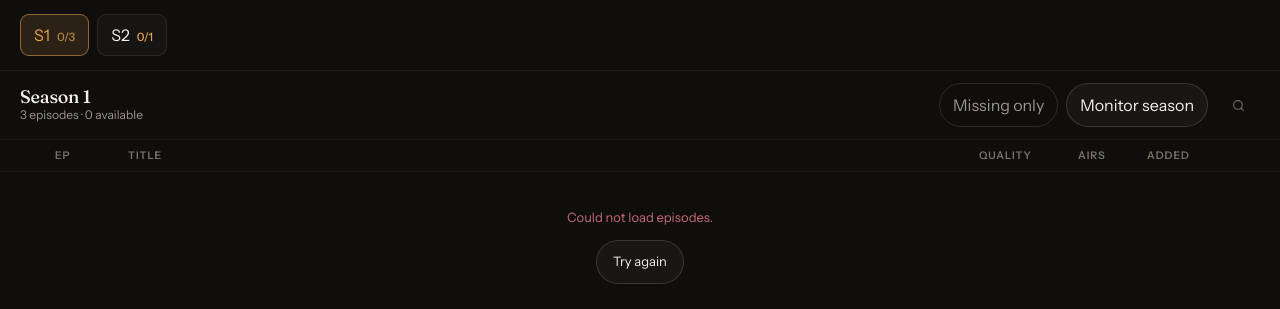
Test: TvEpisodeTable › offers an in-place retry after a season load error
The width and height of the screenshot is (1280, 309).
Click the button "Try again" at (640,262), box top-left (596, 240), bottom-right (684, 284)
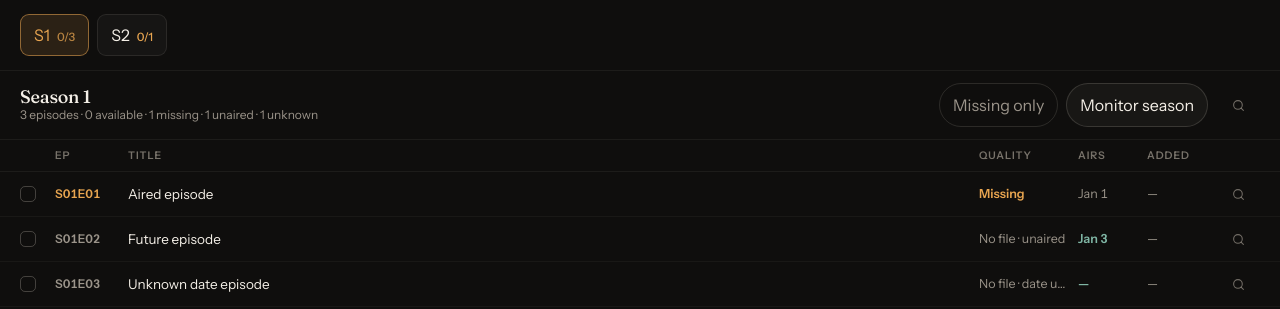
Check: the text "Aired episode" is shown, box top-left (128, 184), bottom-right (214, 204)
